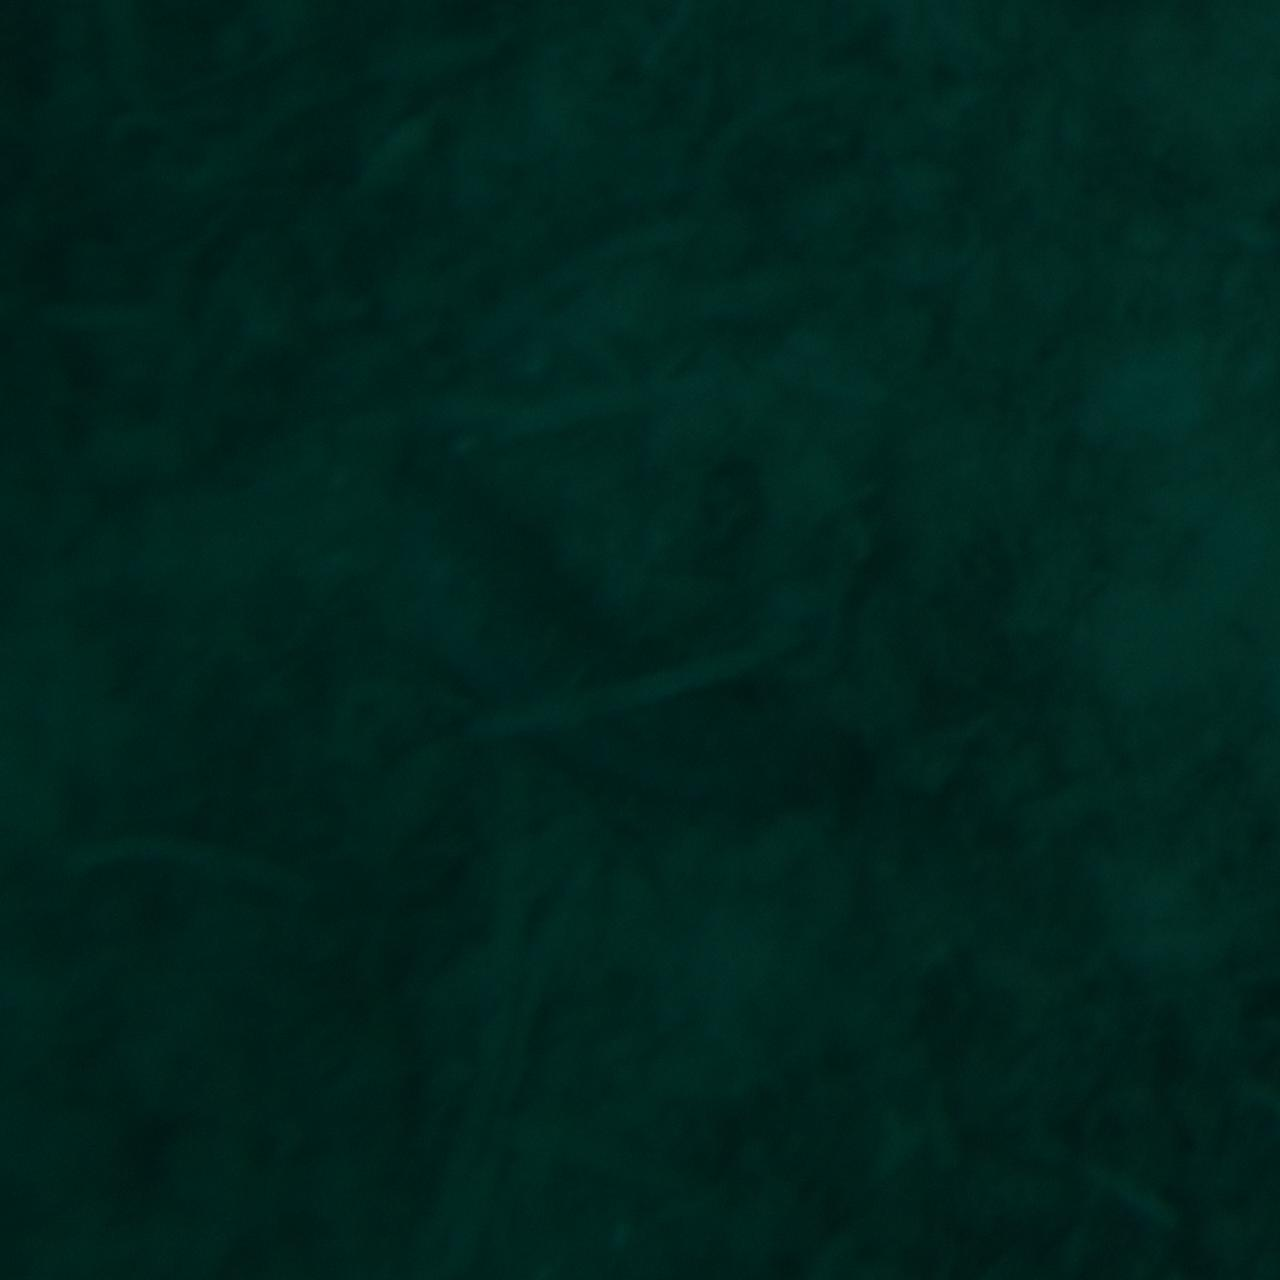Holothuria tubulosa: (394, 453, 886, 827)
